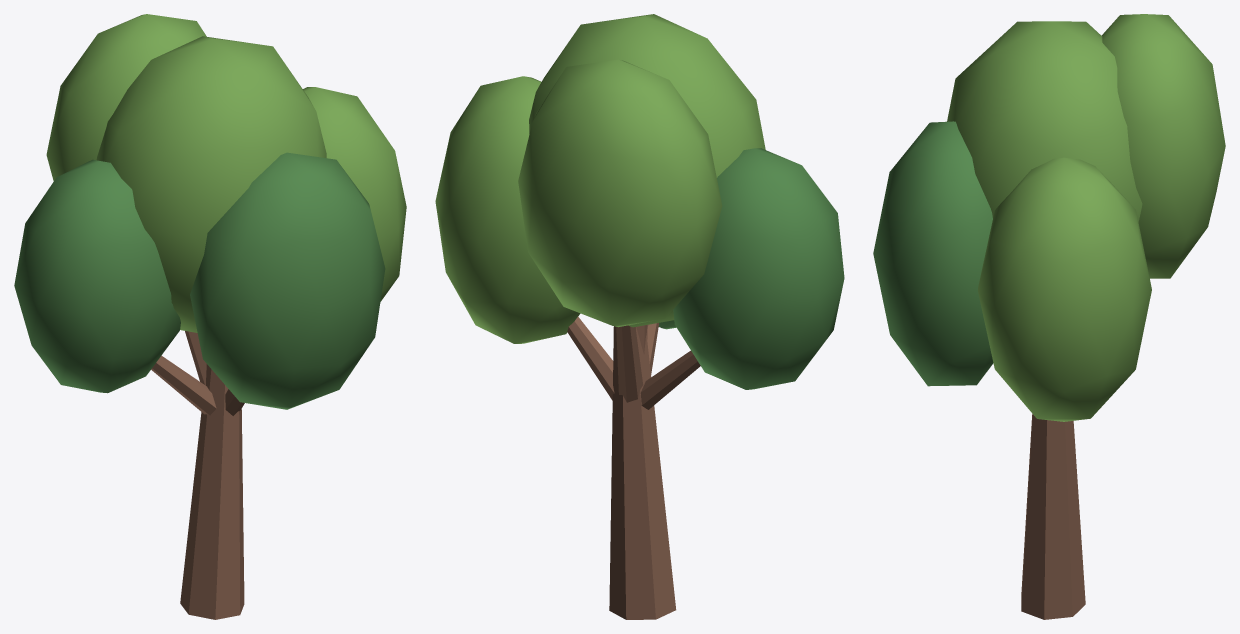
Rendered from broadleaf_tree_tall_01.glb.
3 views of the same model, side by side, from view 1: azimuth 30°, elevation 25°; view 2: azimuth 150°, elevation 25°; view 3: azimuth 270°, elevation 25° (orthographic). The views are drawn at different scales.
Visible parts, largest first — view 1: broadleaf_tree_tall_01; view 2: broadleaf_tree_tall_01; view 3: broadleaf_tree_tall_01.
Part boxes in pixels (left/top/right/bottom): broadleaf_tree_tall_01: left=14, top=14, right=406, bottom=619; broadleaf_tree_tall_01: left=435, top=14, right=844, bottom=619; broadleaf_tree_tall_01: left=873, top=14, right=1225, bottom=619.
Bounding box in the file's own units: 2.59 × 3.8 × 2.08.
